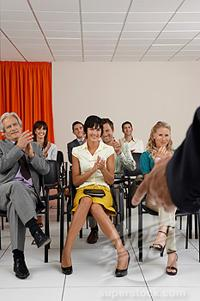person: (58, 114, 132, 283)
